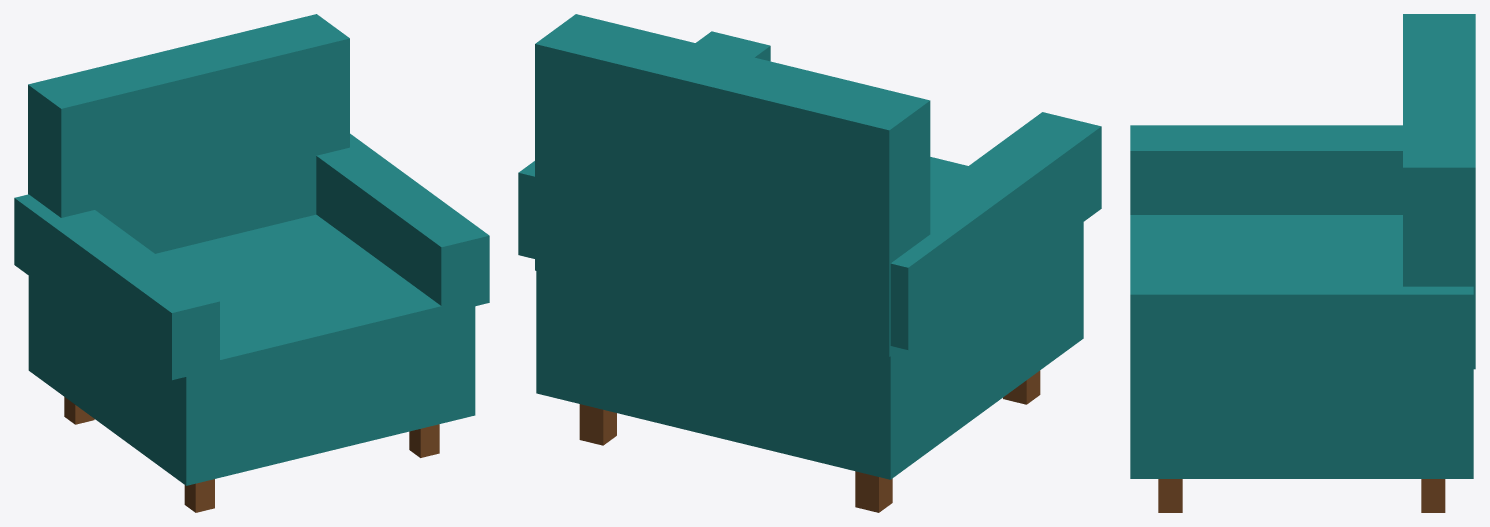
The model's file is armchair.glb.
3 renders of one model, left to right at view 1: azimuth 30°, elevation 25°; view 2: azimuth 150°, elevation 25°; view 3: azimuth 270°, elevation 25°, orthographic. The views are drawn at different scales.
Parts seen in each view (by area): view 1: armchair; view 2: armchair; view 3: armchair.
Boxes of the visible parts, left/top/right/bottom form: armchair: left=14, top=14, right=489, bottom=512; armchair: left=518, top=14, right=1101, bottom=512; armchair: left=1130, top=14, right=1475, bottom=512.
Bounding box in the file's own units: 0.99 × 0.975 × 0.855.
